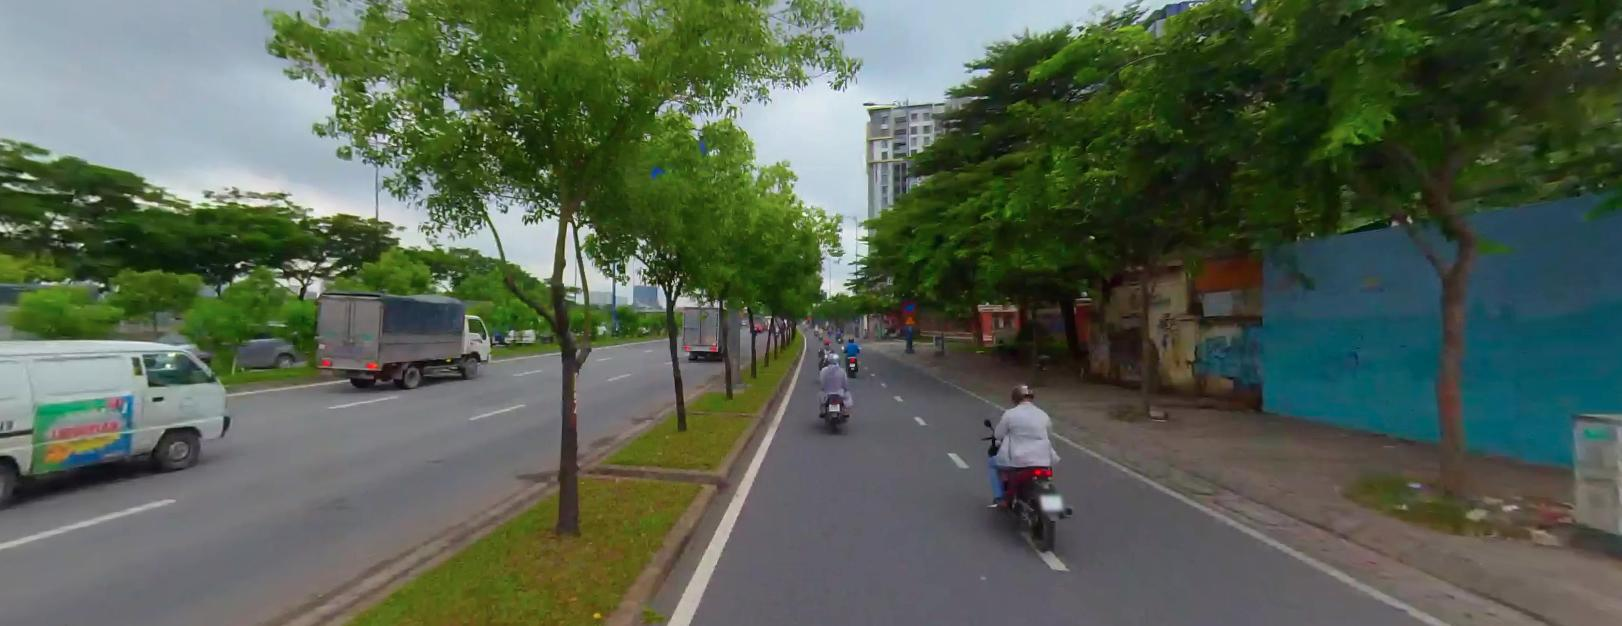Cam dung va do: (902, 299, 917, 312)
Nguy hiem: (902, 312, 918, 322)
